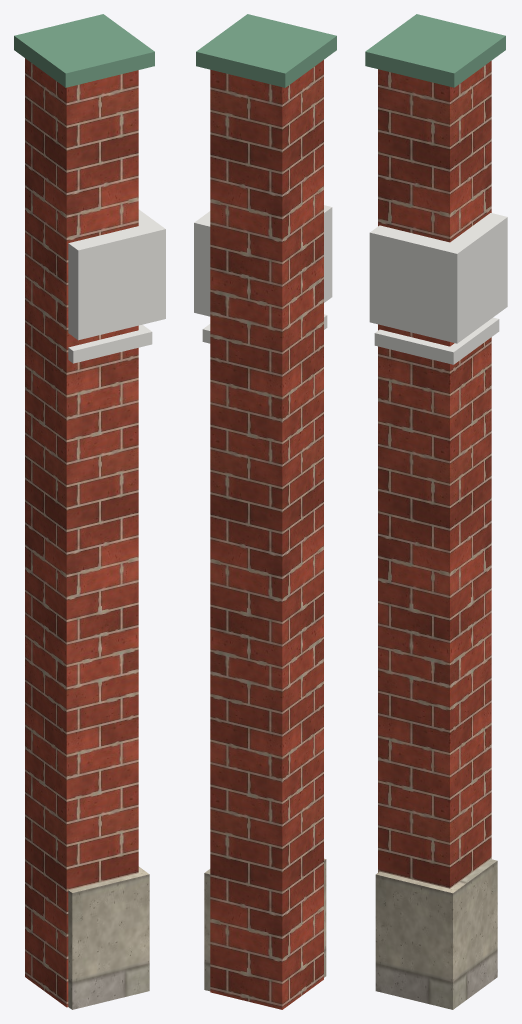
Rendered from corner_brick.glb.
3 renders of one model, left to right at view 1: azimuth 30°, elevation 25°; view 2: azimuth 150°, elevation 25°; view 3: azimuth 330°, elevation 25°, orthographic.
Visible parts, largest first — view 1: corner_brick_brick, corner_brick_trim, corner_brick_stone, corner_brick_coping; view 2: corner_brick_brick, corner_brick_coping, corner_brick_trim, corner_brick_stone; view 3: corner_brick_brick, corner_brick_trim, corner_brick_stone, corner_brick_coping.
Part boxes in pixels (left/top/right/bottom): corner_brick_brick: left=25, top=58, right=138, bottom=1007; corner_brick_trim: left=68, top=209, right=165, bottom=363; corner_brick_stone: left=68, top=866, right=149, bottom=1009; corner_brick_coping: left=14, top=14, right=154, bottom=87; corner_brick_brick: left=210, top=60, right=323, bottom=1009; corner_brick_coping: left=196, top=14, right=336, bottom=87; corner_brick_trim: left=194, top=205, right=332, bottom=343; corner_brick_stone: left=204, top=858, right=326, bottom=991; corner_brick_brick: left=378, top=61, right=491, bottom=888; corner_brick_trim: left=369, top=213, right=507, bottom=364; corner_brick_stone: left=375, top=859, right=497, bottom=1009; corner_brick_coping: left=365, top=14, right=505, bottom=87.
Size of the model in its own units: 0.56 by 5.23 by 0.56.
4 materials, 2 textured.
